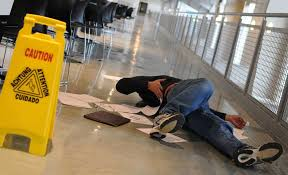collapsed: (116, 57, 284, 175)
